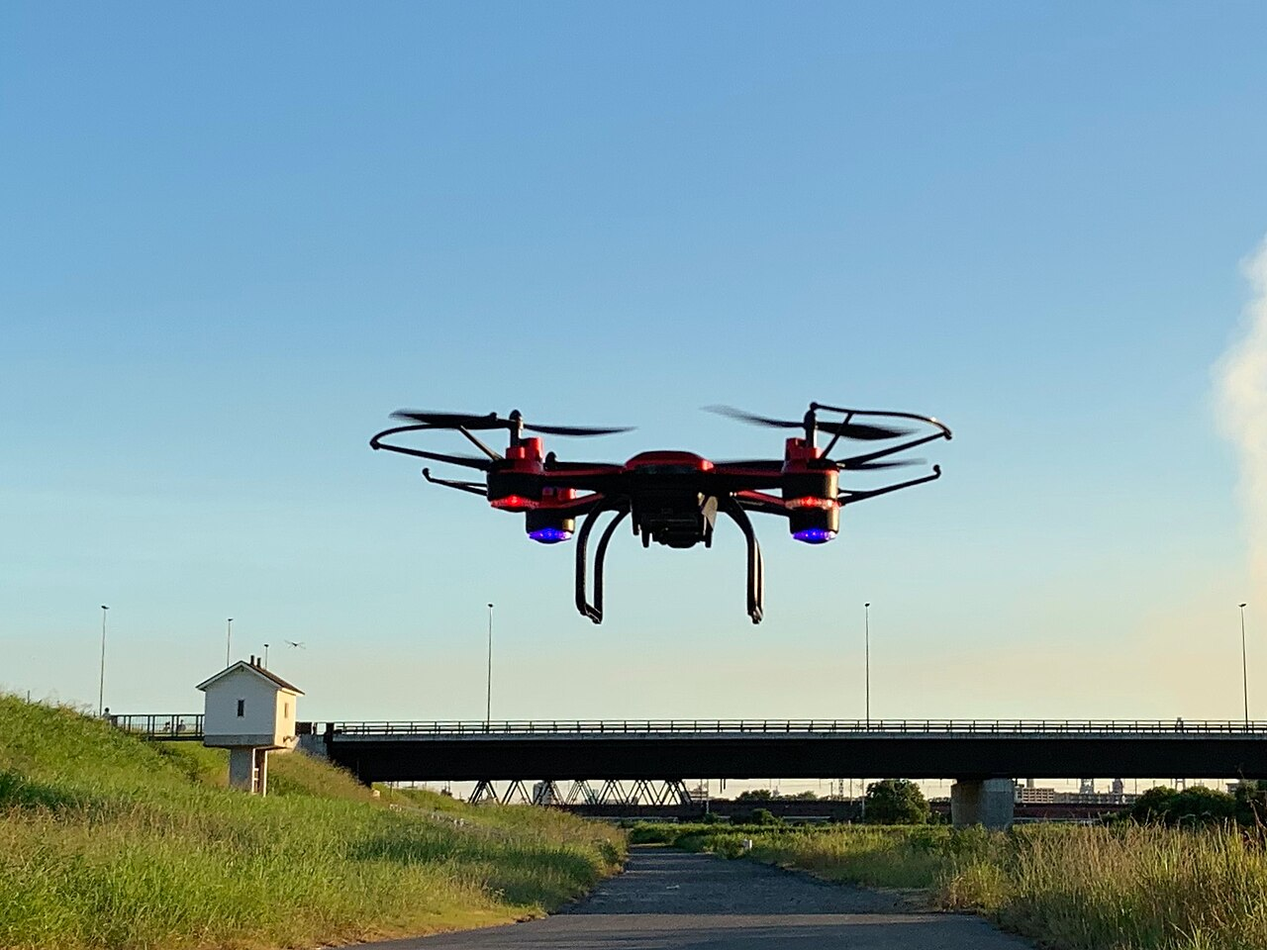drone: (366, 377, 954, 627)
